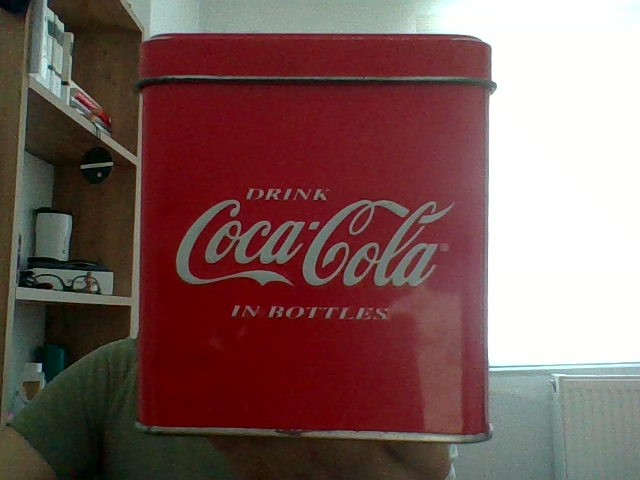CocaColaBox: (134, 34, 495, 443)
